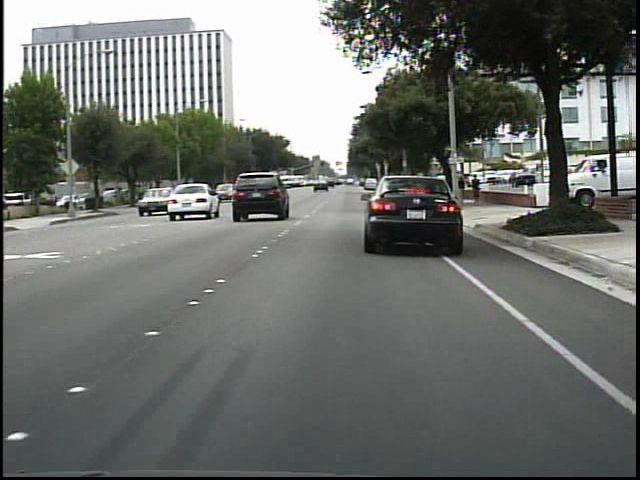person: (470, 173, 482, 203), (458, 175, 469, 203)
